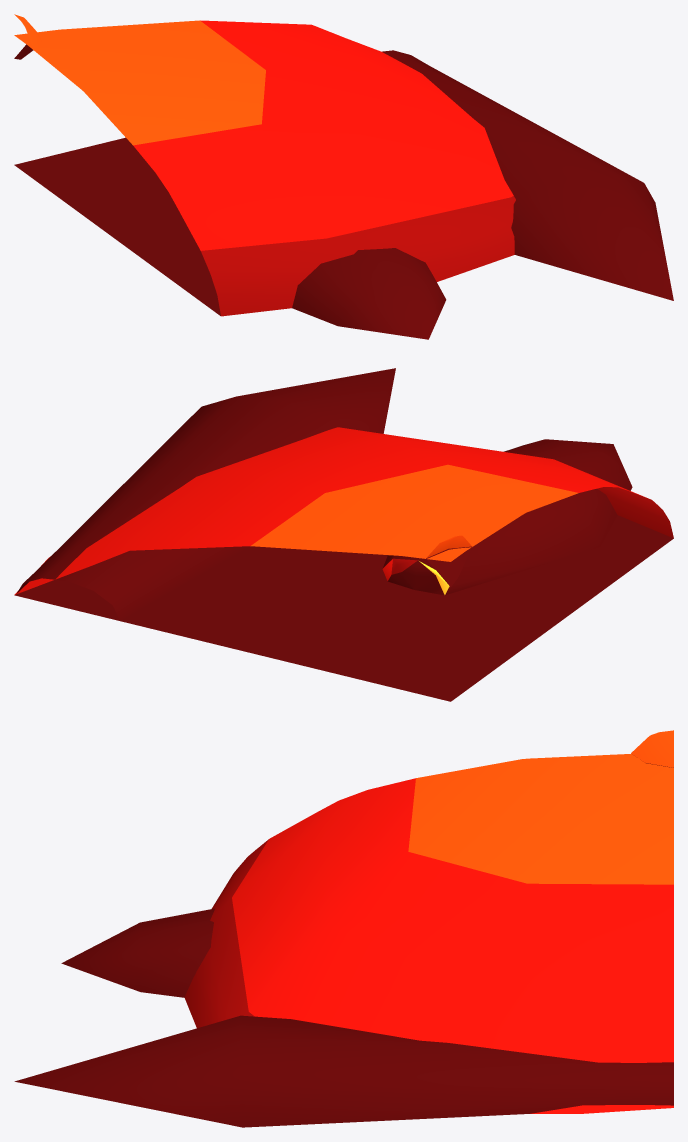
File: shot_dflame_31.glb
The picture shows the model from 3 angles, top to bottom: view 1: azimuth 30°, elevation 25°; view 2: azimuth 150°, elevation 25°; view 3: azimuth 270°, elevation 25°; orthographic projection. The views are drawn at different scales.
Visible parts, largest first — view 1: dflame_wall_bed_b31, dflame_wall_tongue0_b31, dflame_wall_tongue7_b31; view 2: dflame_wall_bed_b31, dflame_wall_tongue0_b31, dflame_wall_tongue7_b31, dflame_wall_billow6_b31; view 3: dflame_wall_bed_b31, dflame_wall_tongue0_b31, dflame_wall_tongue7_b31, dflame_wall_billow6_b31.
Part boxes in pixels (x1=…): dflame_wall_bed_b31: x1=14, y1=20, x2=515, y2=316; dflame_wall_tongue0_b31: x1=382, y1=50, x2=673, y2=300; dflame_wall_tongue7_b31: x1=292, y1=248, x2=446, y2=339; dflame_wall_bed_b31: x1=14, y1=427, x2=673, y2=701; dflame_wall_tongue0_b31: x1=15, y1=368, x2=395, y2=620; dflame_wall_tongue7_b31: x1=382, y1=439, x2=632, y2=595; dflame_wall_billow6_b31: x1=426, y1=535, x2=472, y2=586; dflame_wall_bed_b31: x1=184, y1=754, x2=673, y2=1113; dflame_wall_tongue0_b31: x1=14, y1=1015, x2=673, y2=1127; dflame_wall_tongue7_b31: x1=61, y1=908, x2=214, y2=997; dflame_wall_billow6_b31: x1=631, y1=730, x2=673, y2=767.
Size of the model in its own units: 11.74 by 3.82 by 14.
